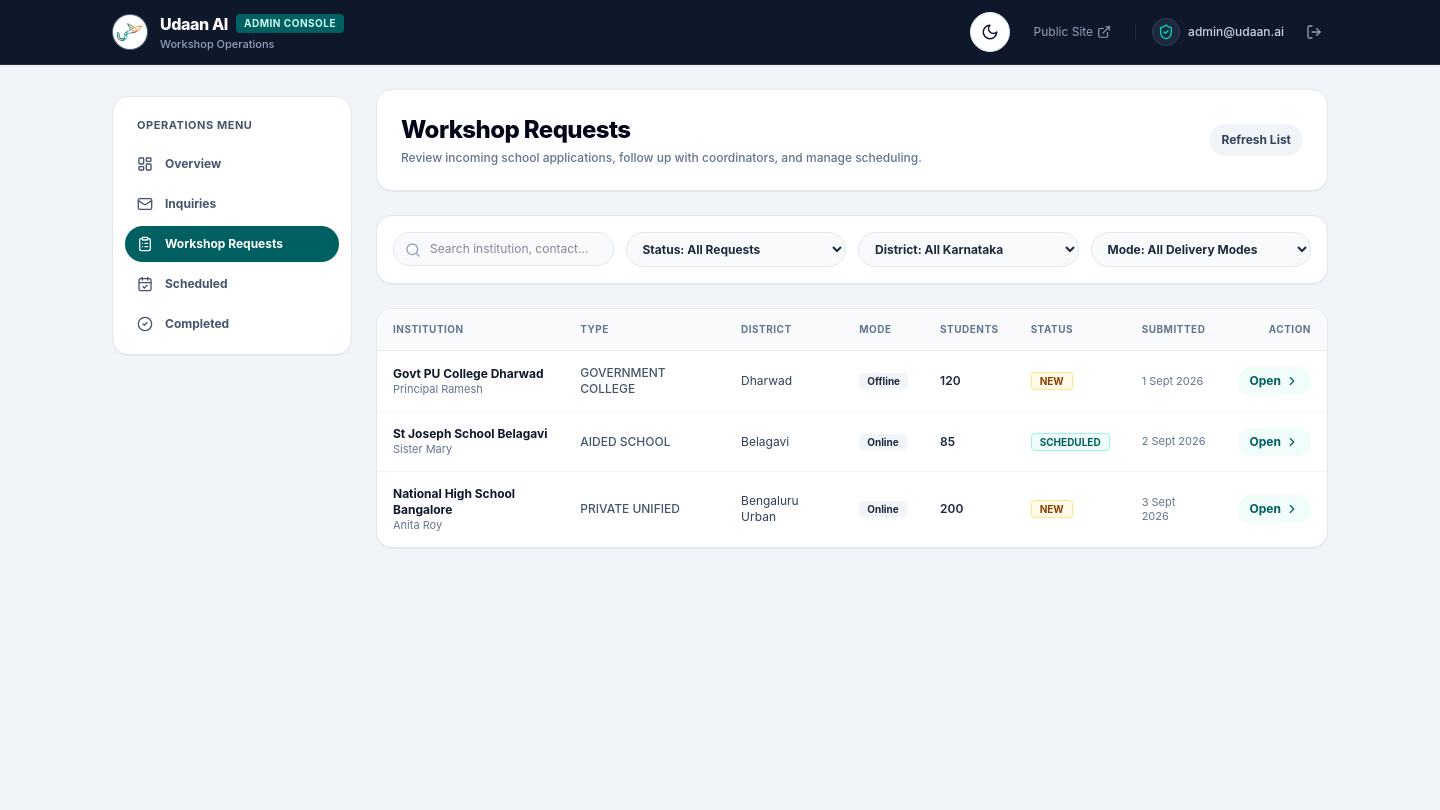
AdminRequestsPage › ?open=<id> query resolution & drawer dismissal handling › correctly initializes different request forms when switching requests
Expected: the text "Govt PU College Dharwad" is shown, [393,366,548,382]
// Open Request 1 (offline, preferred_date 2026-10-15)
Click the button "Open" in the row of "Govt PU College Dharwad": [1274, 381] box [1238,367,1311,395]
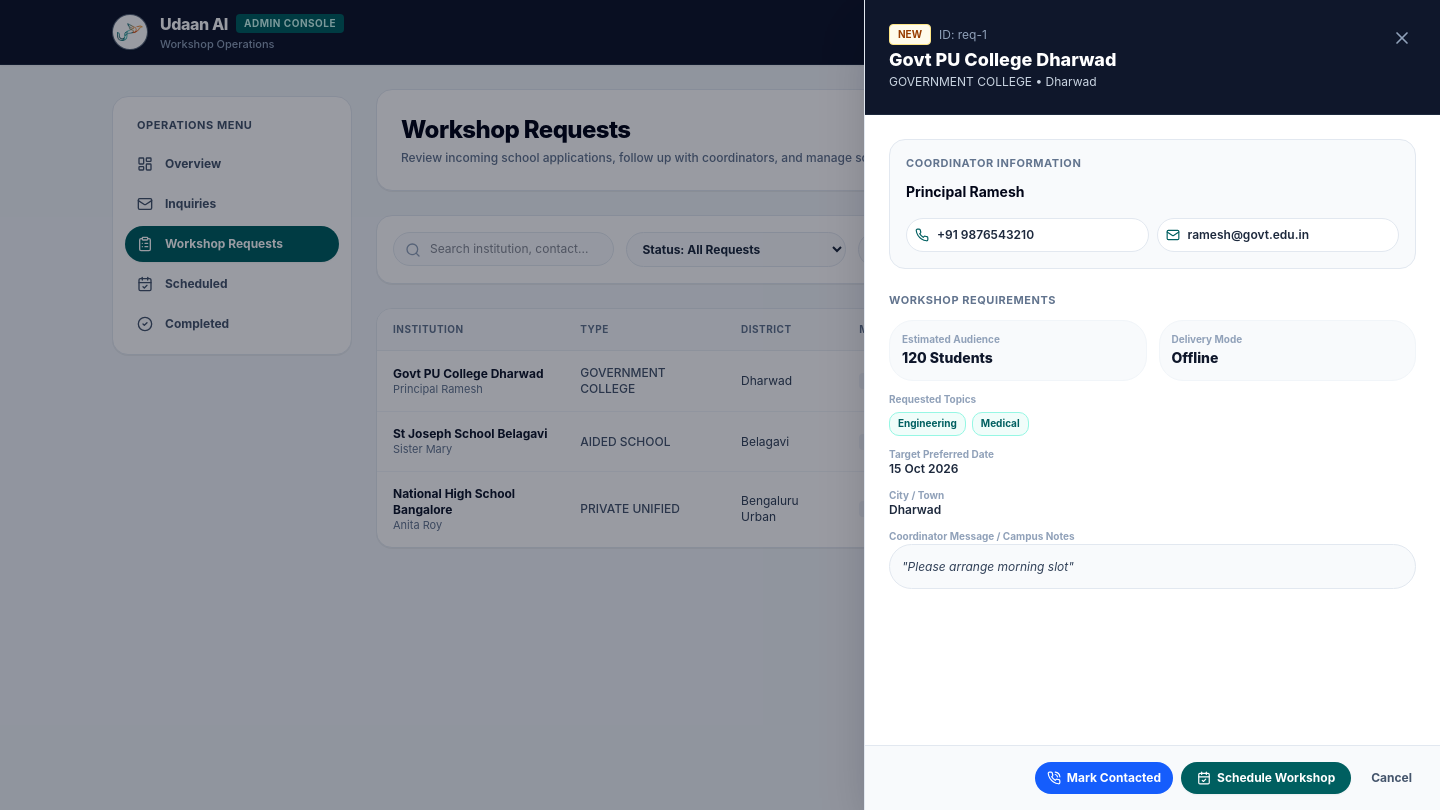
Expected: the text "Coordinator Information" is shown, [906,156,1081,170]
Click the button "Schedule Workshop": [1266, 778] box [1181,762,1351,794]
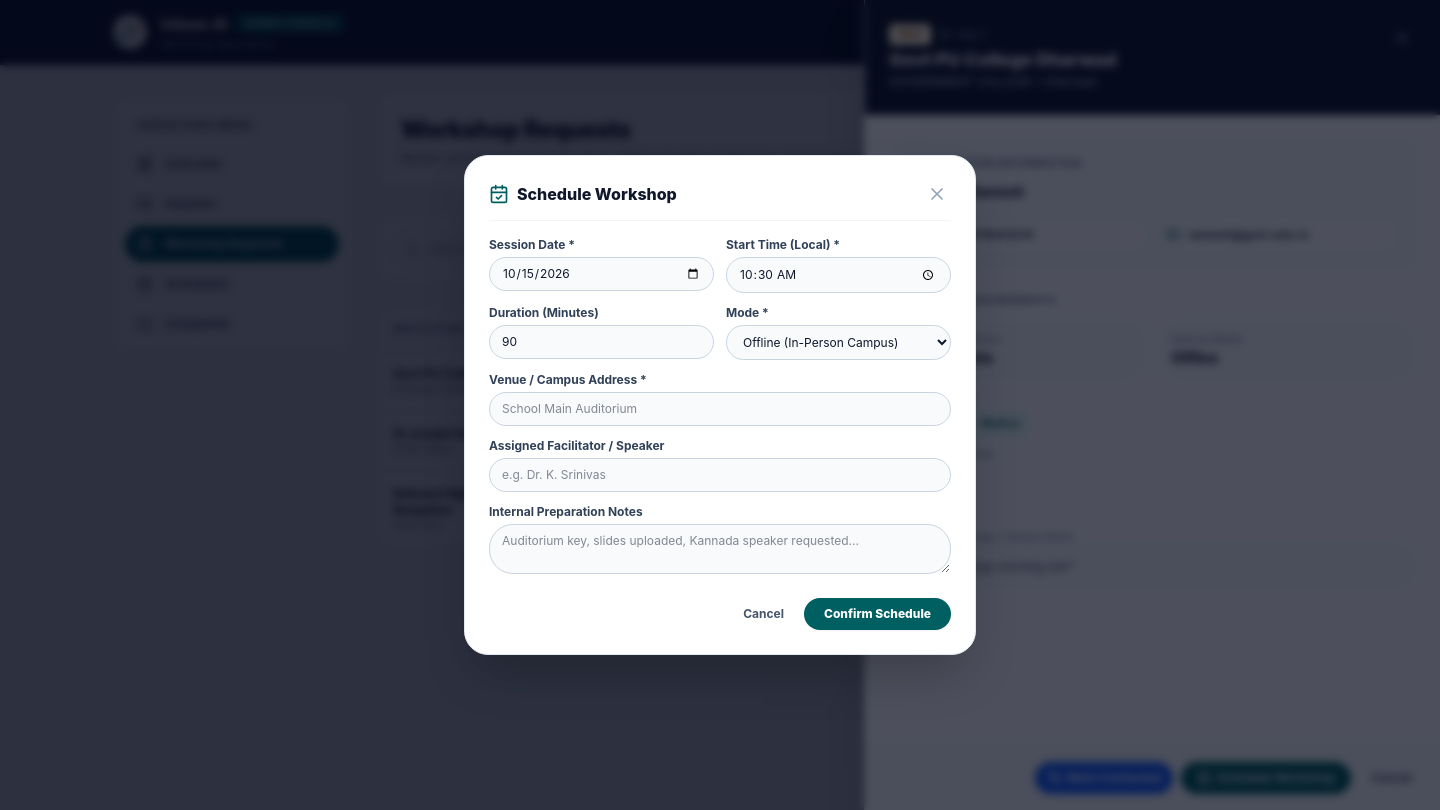
Expected: the date field labelled "Session Date *" holds "2026-10-15", [489,257,714,291]
Expected: the dropdown labelled "Mode *" shows "Offline (In-Person Campus)", [726,325,951,360]
// Close schedule modal using its close button
Click the button named "close schedule modal": [937, 194] box [923,180,951,208]
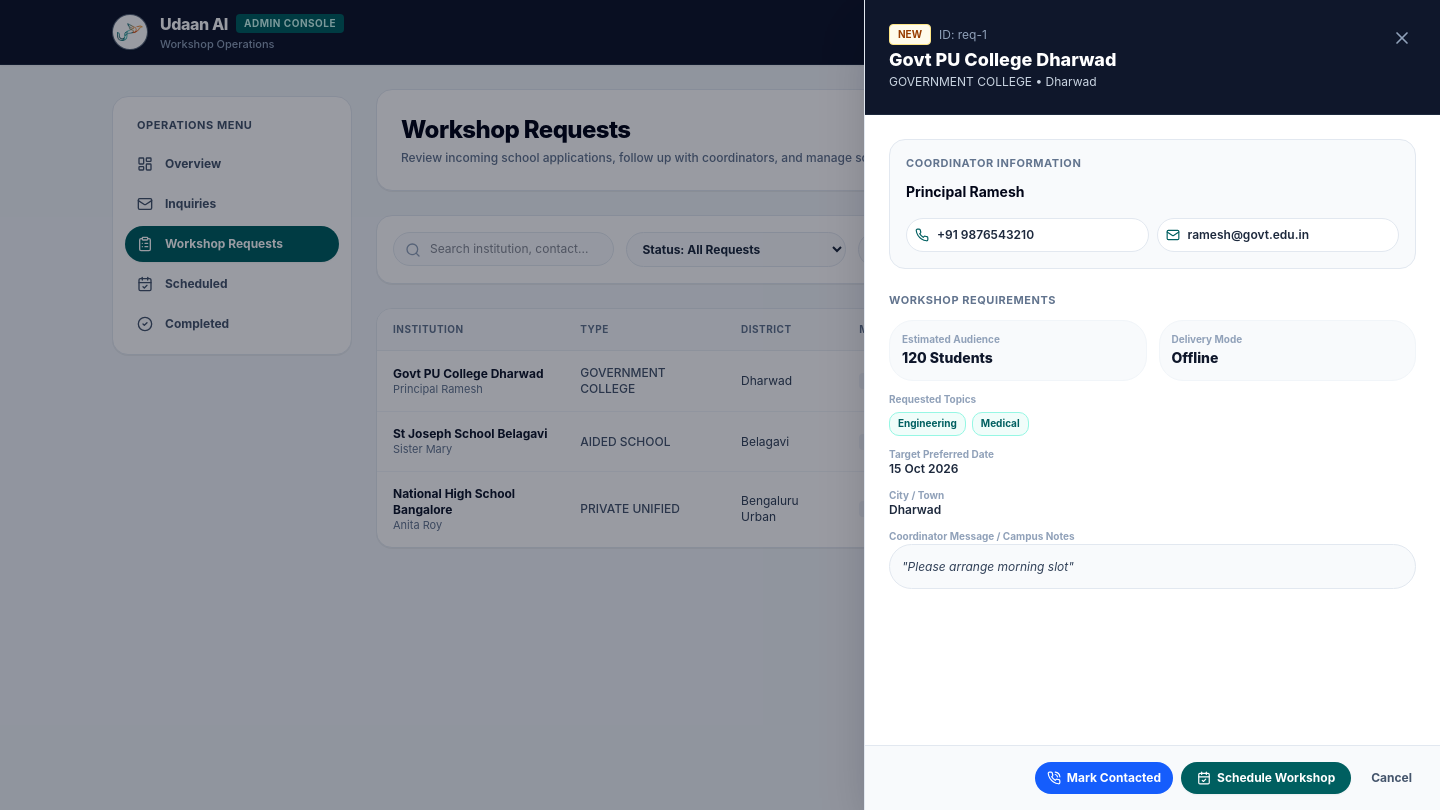
// Close drawer
Click the button named "close drawer": [1402, 38] box [1388,24,1416,52]
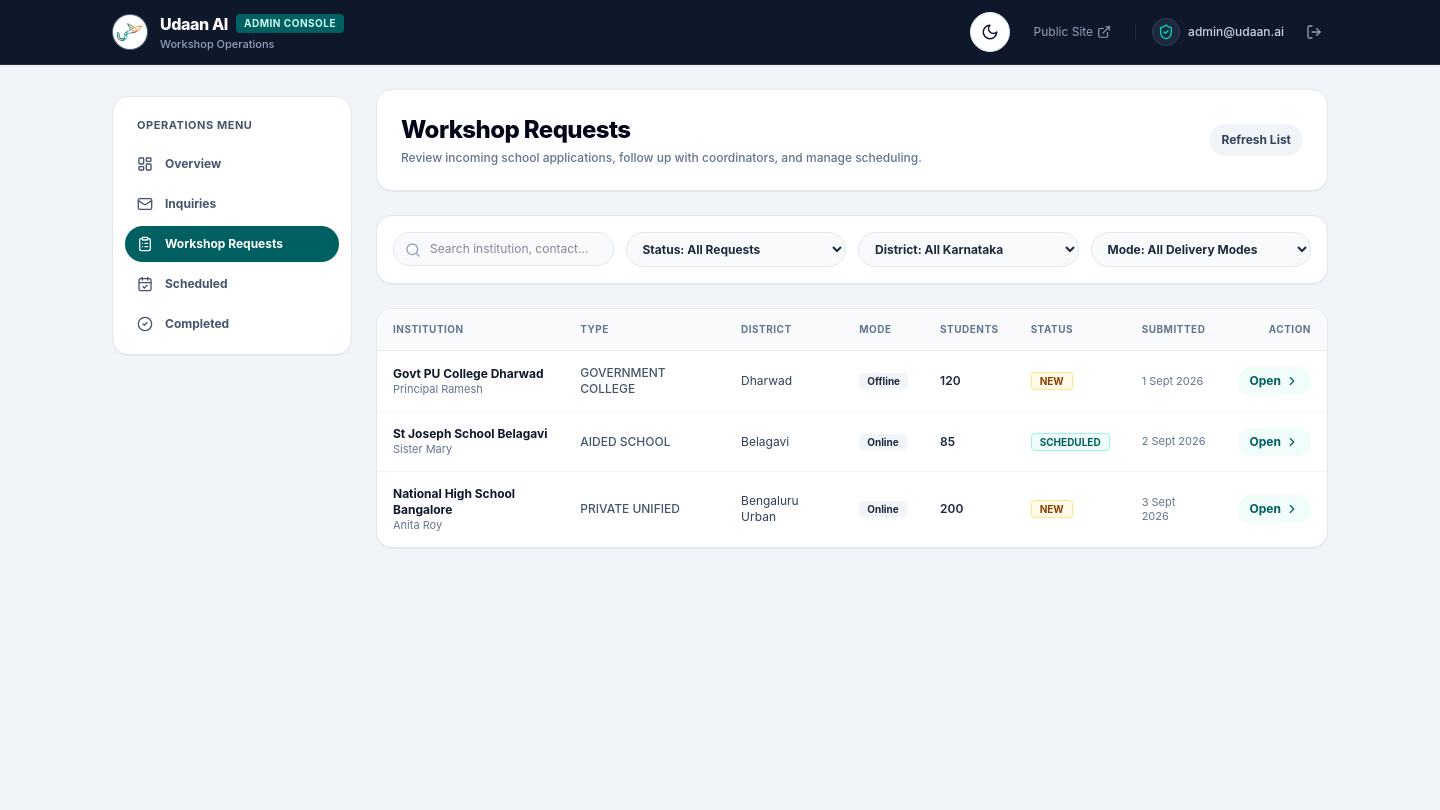
Expected: the text "Coordinator Information" is gone
// Open Request 2 (already scheduled: date 2026-11-20, online, facilitator Dr. Suresh Kumar)
Click the button "Open" in the row of "St Joseph School Belagavi": [1274, 442] box [1238,428,1311,456]
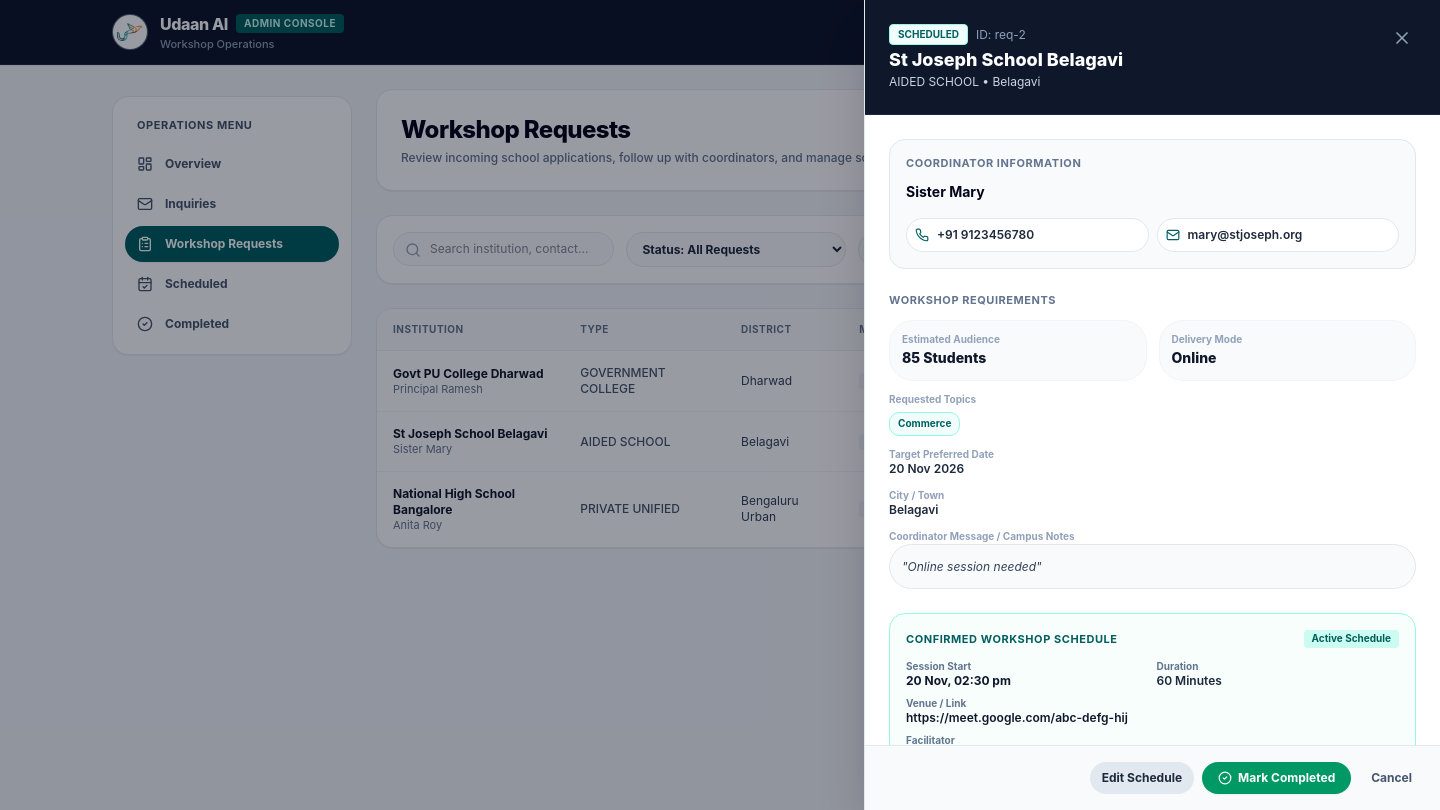
Expected: the heading "St Joseph School Belagavi" is shown, [889,49,1123,72]
Click the button "Edit Schedule": [1142, 778] box [1090,762,1194,794]
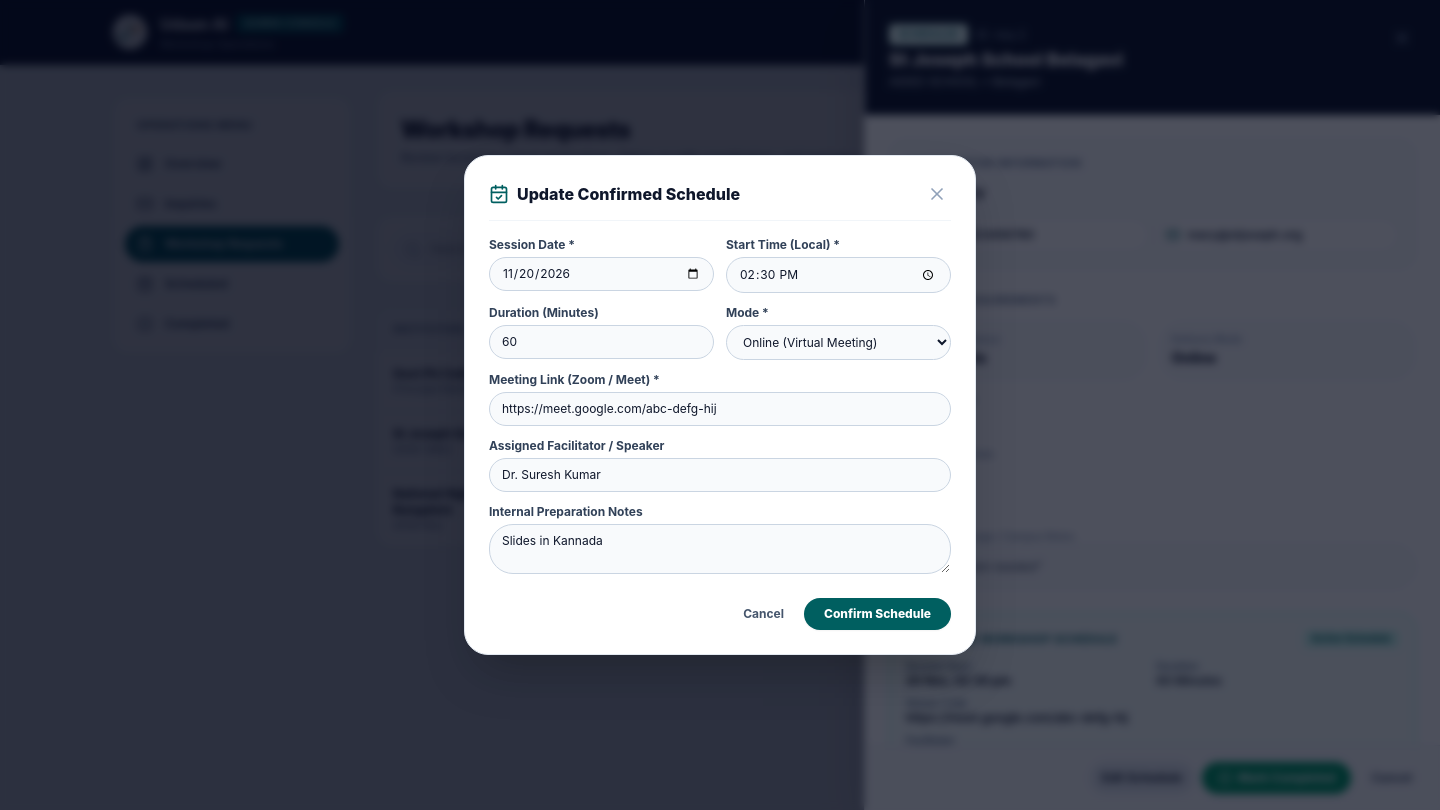
Expected: the date field labelled "Session Date *" holds "2026-11-20", [489,257,714,291]
Expected: the dropdown labelled "Mode *" shows "Online (Virtual Meeting)", [726,325,951,360]
Expected: the field showing "https://meet.google.com/abc-defg-hij" is shown, [489,392,951,426]
